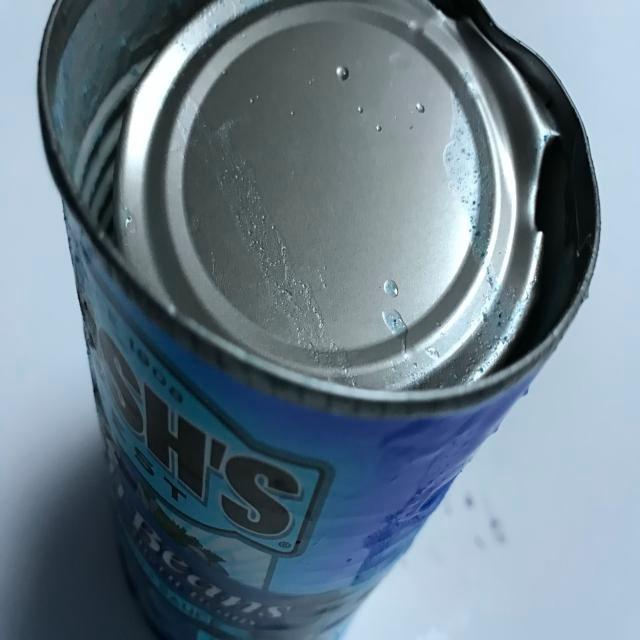metal: (33, 0, 604, 640)
